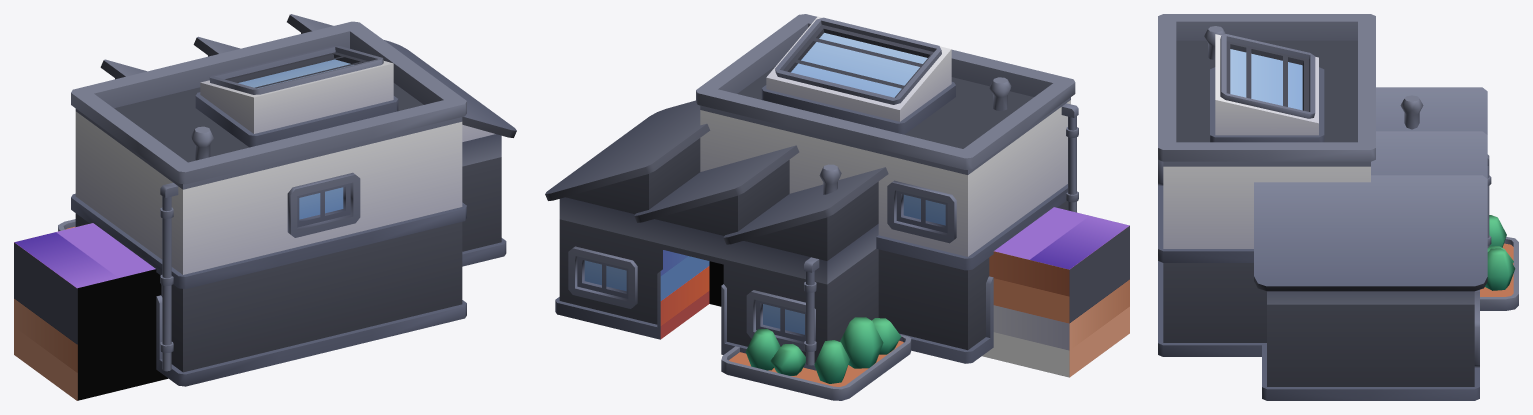
File: building-t-enterable.glb
3 views of the same model, side by side, from view 1: azimuth 30°, elevation 25°; view 2: azimuth 150°, elevation 25°; view 3: azimuth 270°, elevation 25° (orthographic). The views are drawn at different scales.
Parts seen in each view (by area): view 1: building-t-enterable; view 2: building-t-enterable; view 3: building-t-enterable.
Boxes of the visible parts, left/top/right/bottom form: building-t-enterable: left=14, top=14, right=516, bottom=400; building-t-enterable: left=545, top=14, right=1129, bottom=400; building-t-enterable: left=1158, top=14, right=1518, bottom=400.
Bounding box in the file's own units: 2.02 × 1.06 × 1.39.
Materials: 1 (1 with a texture image).
